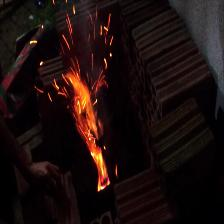fire: (40, 49, 134, 196)
